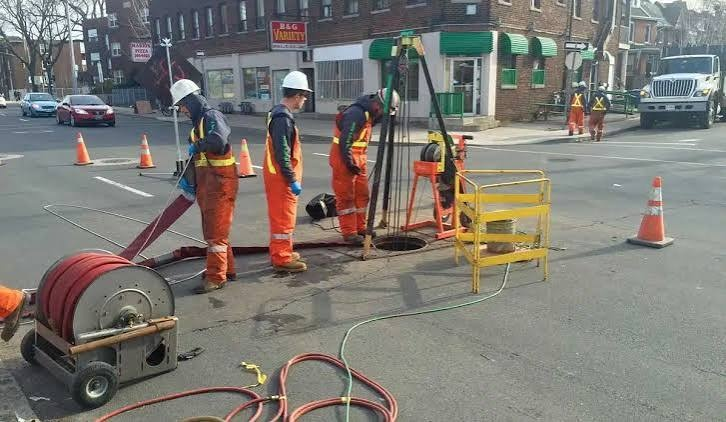hardhat: (169, 78, 211, 107), (277, 69, 313, 102), (372, 84, 402, 118), (573, 78, 587, 88), (595, 85, 608, 94)
person: (161, 73, 246, 291), (319, 78, 407, 253), (264, 58, 313, 270), (587, 82, 613, 147), (564, 78, 590, 140)
safety_cone: (630, 170, 678, 252), (67, 127, 103, 166), (233, 135, 256, 184), (133, 132, 158, 169)
safety_vest: (174, 118, 247, 192), (322, 110, 387, 176), (263, 130, 313, 187), (589, 94, 607, 116), (568, 92, 584, 111)
